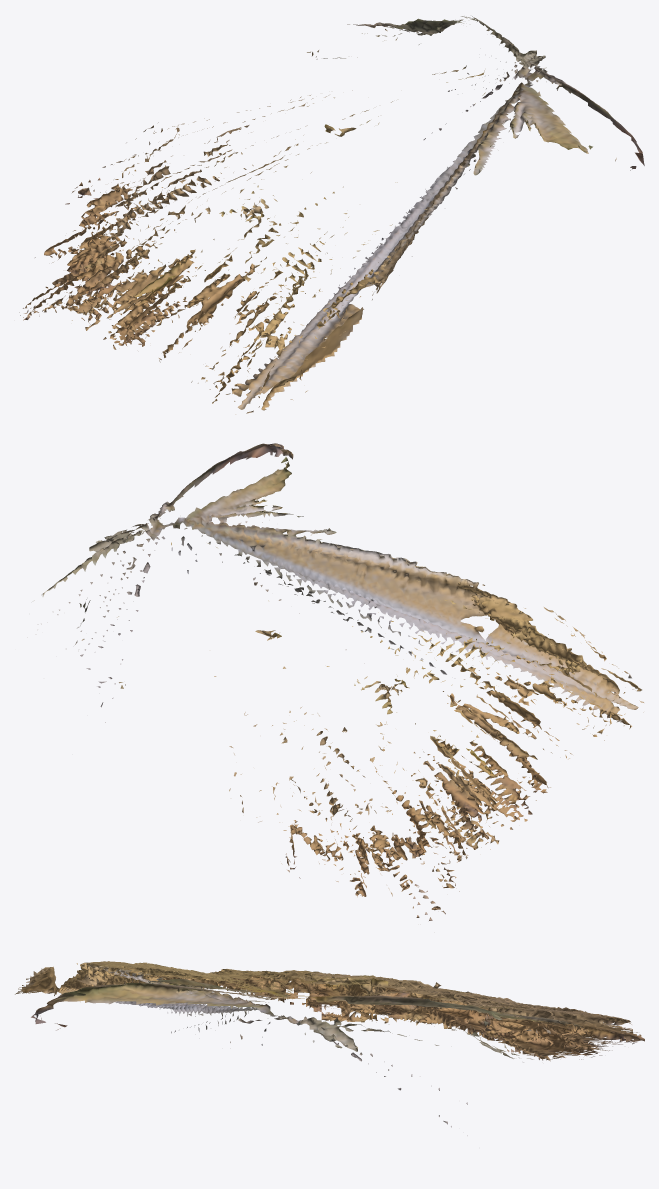
The model's file is world-1770911178287.glb.
3 renders of one model, top to bottom at view 1: azimuth 30°, elevation 25°; view 2: azimuth 150°, elevation 25°; view 3: azimuth 270°, elevation 25°, orthographic. The views are drawn at different scales.
Parts seen in each view (by area): view 1: world; view 2: world; view 3: world.
Part boxes in pixels (x1,y1,x2,y2): world: (19, 16, 644, 414); world: (27, 443, 643, 920); world: (15, 961, 644, 1135).
Size of the model in its own units: 106 by 55.23 by 116.
